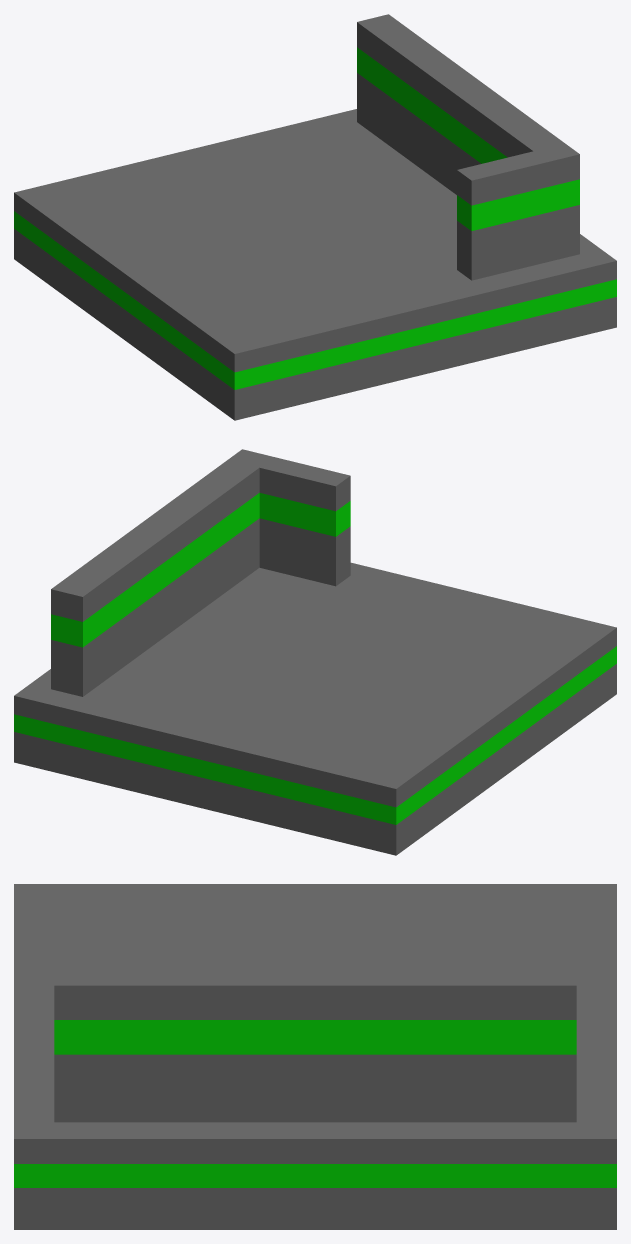
File: Sm_BigPlatform_LeftRail.fbx
3 views of the same model, one above another, from view 1: azimuth 30°, elevation 25°; view 2: azimuth 150°, elevation 25°; view 3: azimuth 270°, elevation 25° (orthographic). The views are drawn at different scales.
Parts seen in each view (by area): view 1: pCube1, pasted__pCube2; view 2: pCube1, pasted__pCube2; view 3: pCube1, pasted__pCube2.
Part boxes in pixels (x1,y1,x2,y2): pCube1: (14,109,616,420); pasted__pCube2: (357,14,579,280); pCube1: (14,562,616,855); pasted__pCube2: (51,449,350,696); pCube1: (14,884,616,1229); pasted__pCube2: (54,913,576,1122).
Bounding box in the file's own units: 300 × 126 × 300.
